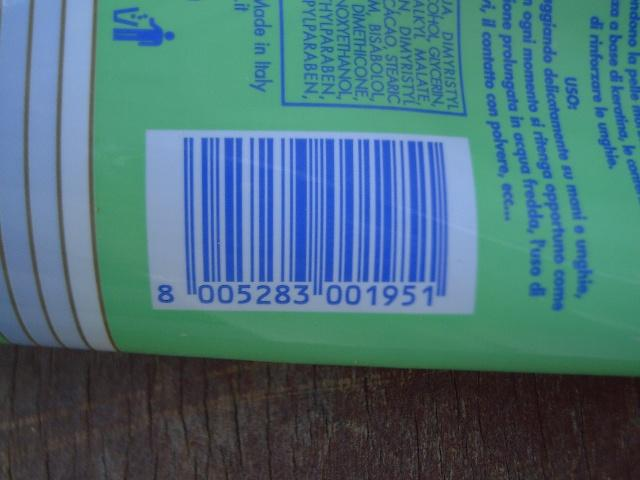Barcode: (147, 128, 474, 314)
